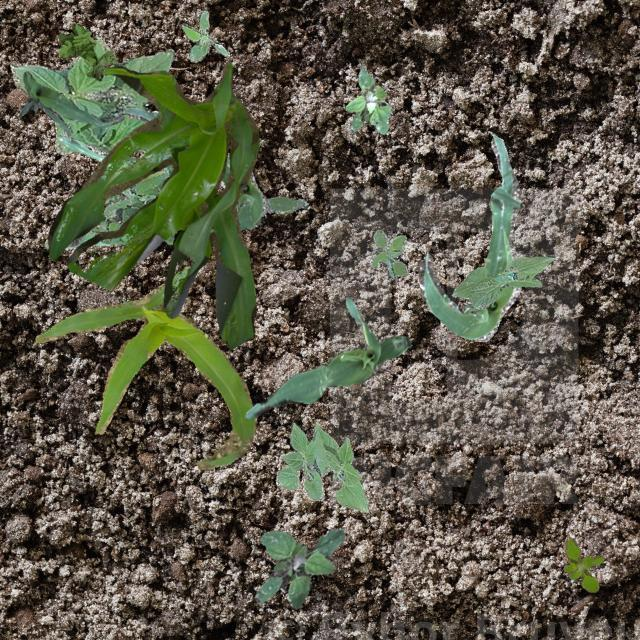crop: (46, 60, 258, 348), (34, 266, 256, 468), (9, 38, 172, 248), (418, 130, 520, 340), (244, 296, 410, 418), (118, 106, 268, 232), (57, 132, 136, 248), (274, 422, 368, 511), (18, 70, 122, 134), (451, 254, 554, 308), (106, 158, 164, 182)
weed: (253, 526, 344, 608), (89, 166, 173, 243), (56, 22, 116, 80), (344, 68, 390, 134), (180, 10, 228, 60), (562, 538, 602, 592), (368, 228, 408, 278), (246, 196, 306, 228)
